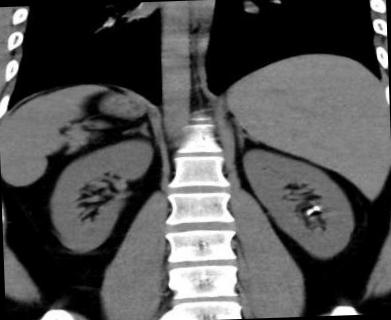Tas_Var: (302, 208, 314, 216), (312, 205, 322, 212)
